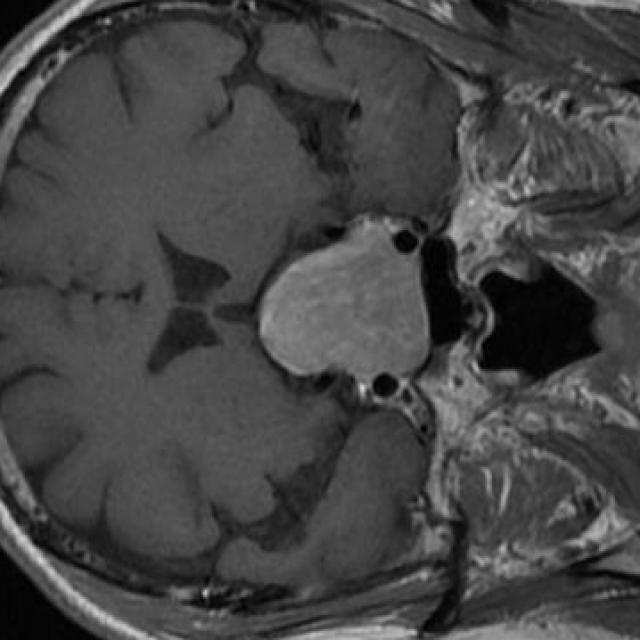pituitary: (260, 217, 431, 376)
